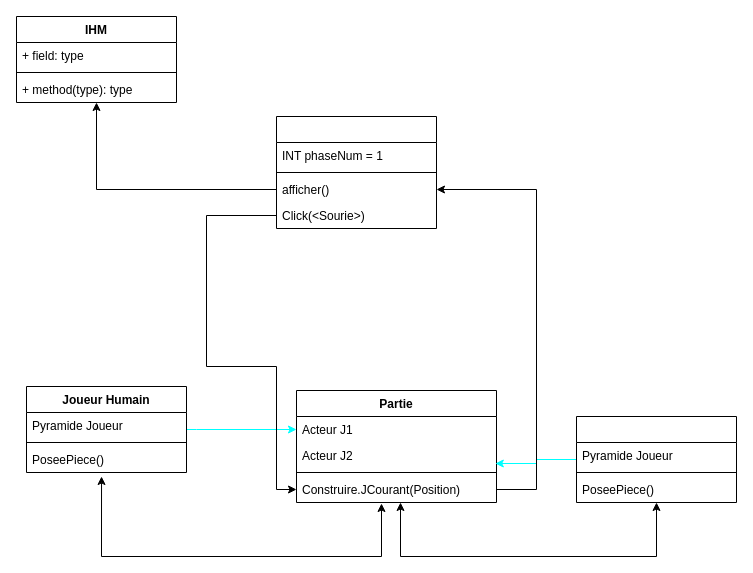
The diagram is 753 pixels wide and 573 high, and some of its shapes have lost their labels. Each missing label, with the box of its shape:
IA Humain: (576, 416, 736, 502)
Jeu / controlleur: (276, 116, 436, 228)
